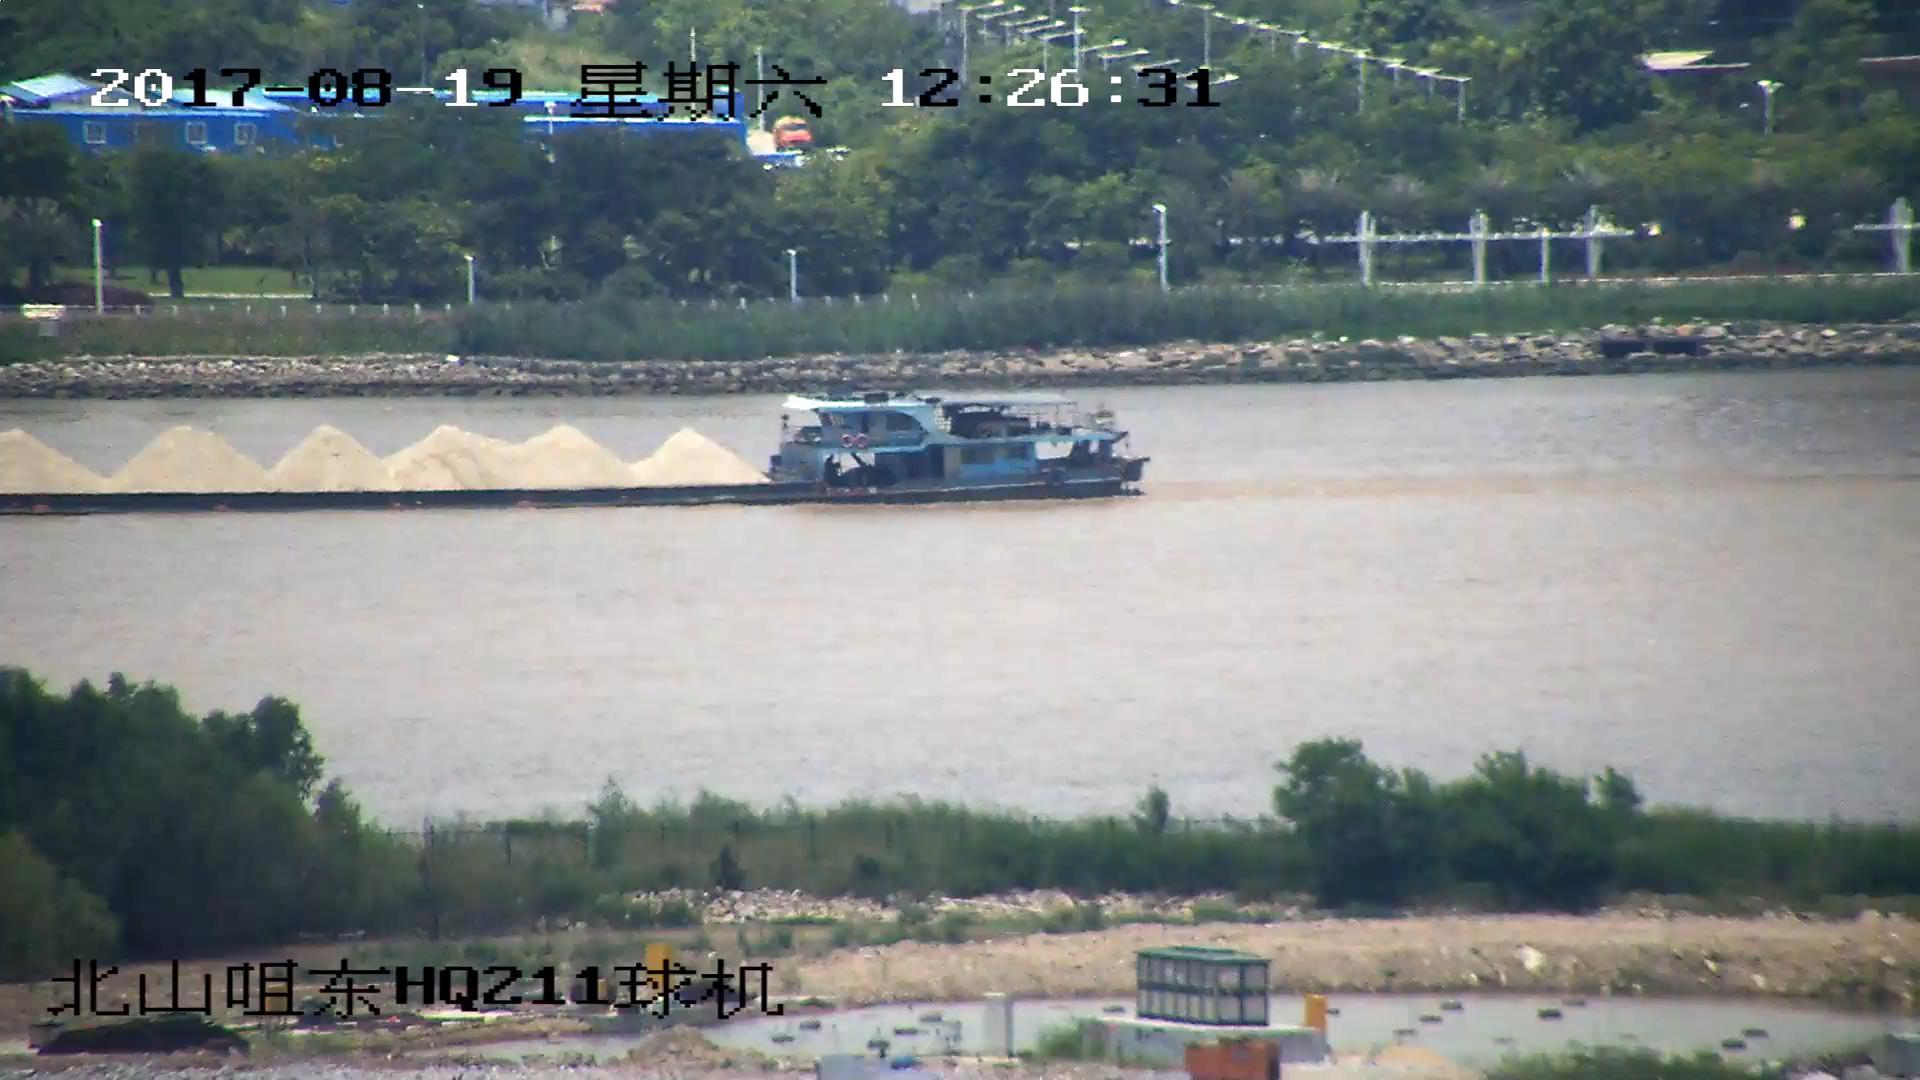Ship: (3, 388, 1143, 516)
